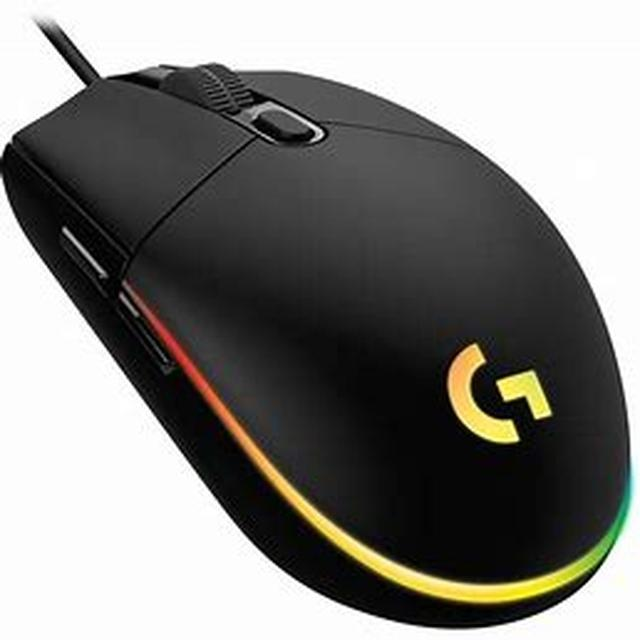mouse: (46, 48, 626, 619)
